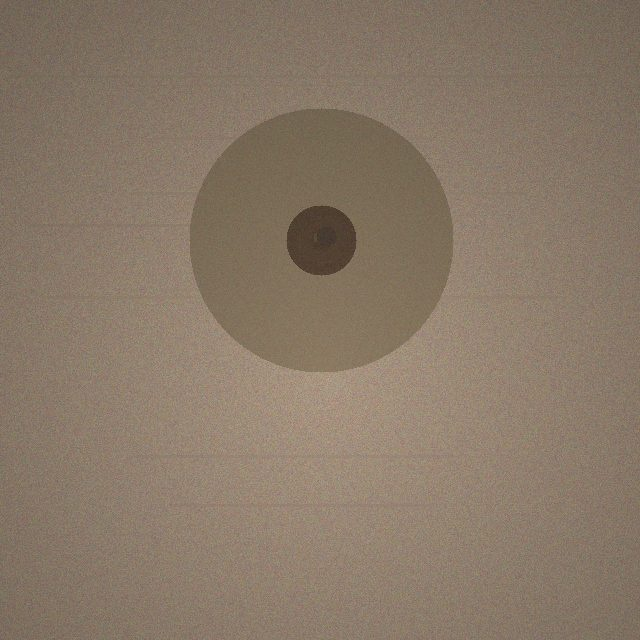cold_weld: (189, 108, 453, 372)
